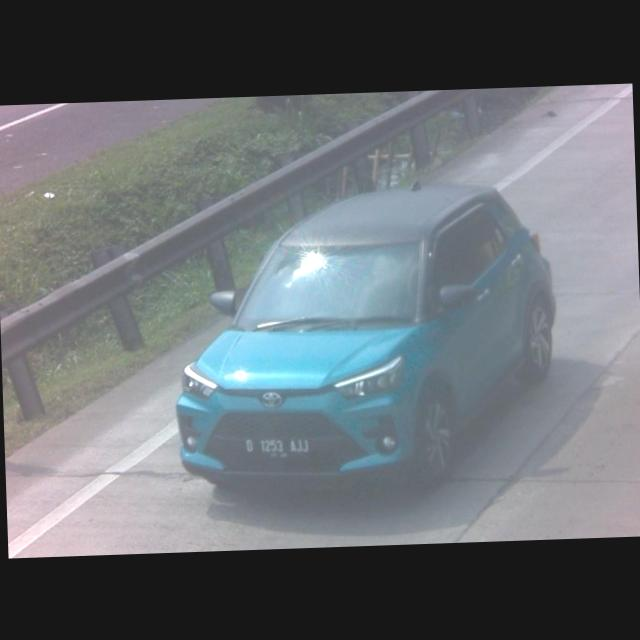plate: (239, 432, 309, 460)
